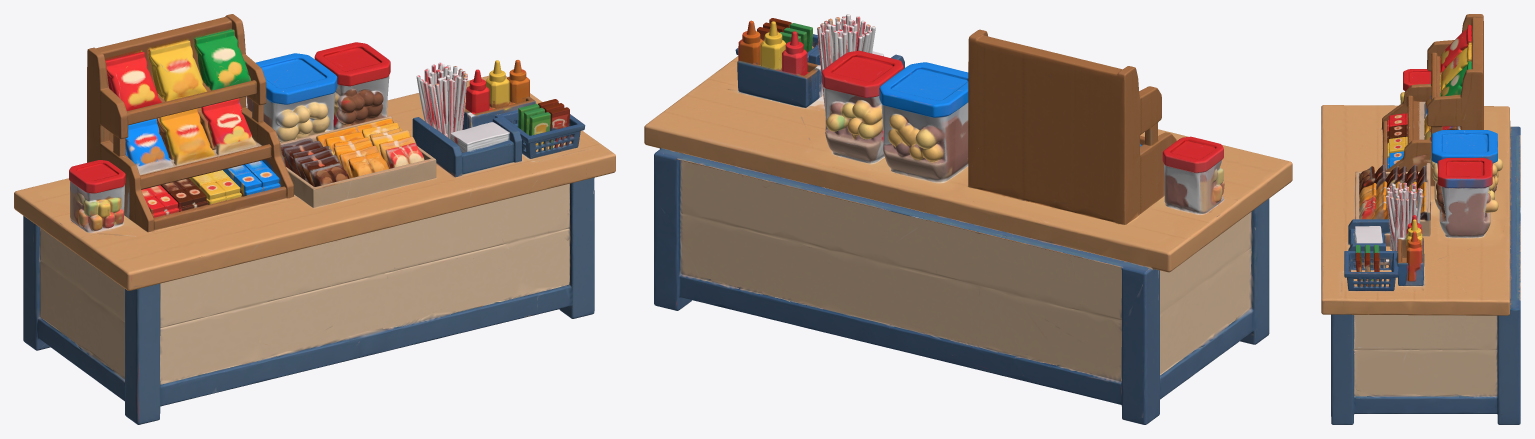
Rendered from Meshy_AI_Colorful_Snack_Stand_1024134220_texture.fbx.
The picture shows the model from 3 angles, left to right: view 1: azimuth 30°, elevation 25°; view 2: azimuth 150°, elevation 25°; view 3: azimuth 270°, elevation 25°; orthographic projection. The views are drawn at different scales.
Visible parts, largest first — view 1: Mesh_0; view 2: Mesh_0; view 3: Mesh_0.
Boxes of the visible parts, x1,y1,x2,y2 form: Mesh_0: [14, 14, 615, 424]; Mesh_0: [644, 14, 1292, 424]; Mesh_0: [1321, 14, 1520, 424].
Bounding box in the file's own units: 190 × 111 × 82.06.
Materials: 1 (1 with a texture image).
